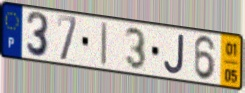3: (25, 11, 52, 60), (124, 26, 148, 71)
6: (193, 34, 217, 83)
7: (56, 12, 78, 64)
I: (100, 21, 109, 69)
J: (162, 32, 186, 76)
